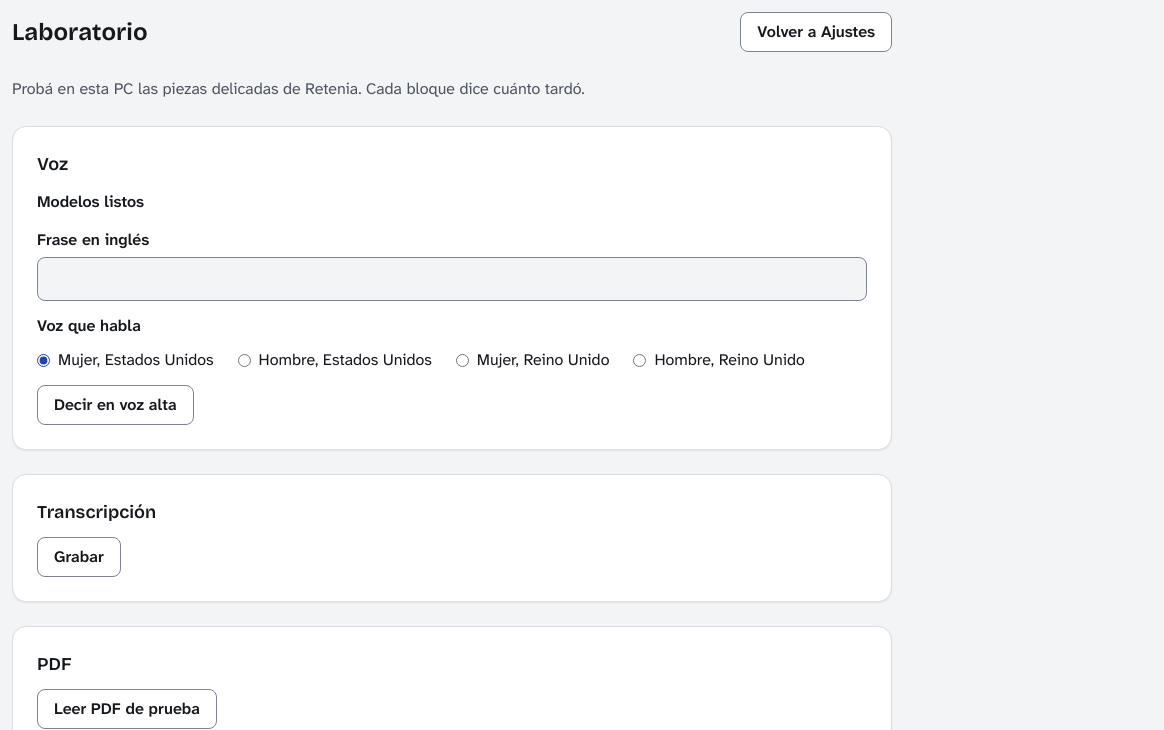
Scenario: Laboratorio › [CA-027] si Windows niega el micrófono recién al pedirlo, muestra el mismo aviso (simulado)
What coordinates should you click on to do the following:
click the button "Grabar"
I would click on:
 (79, 557)
Its box is x1=37 y1=537 x2=121 y2=577.
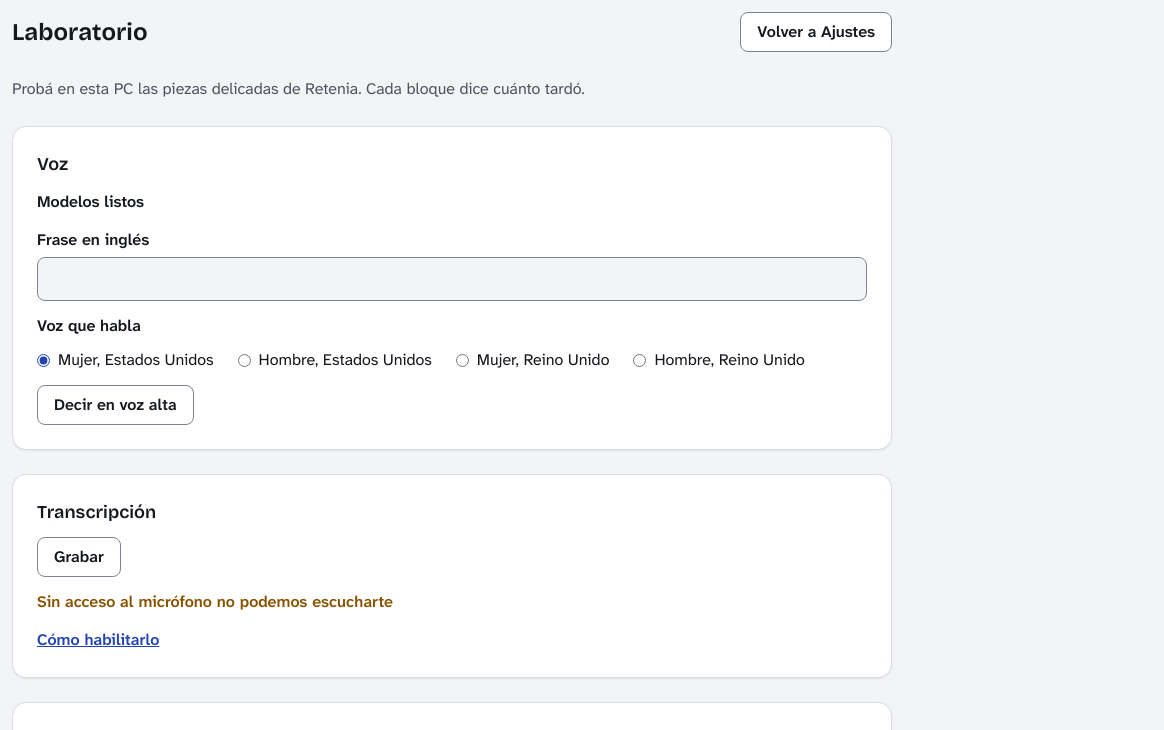
Check: the text "Sin acceso al micrófono no podemos escucharte" is shown, box x1=37 y1=591 x2=393 y2=612
Check: the link "Cómo habilitarlo" is shown, box x1=37 y1=629 x2=159 y2=650
